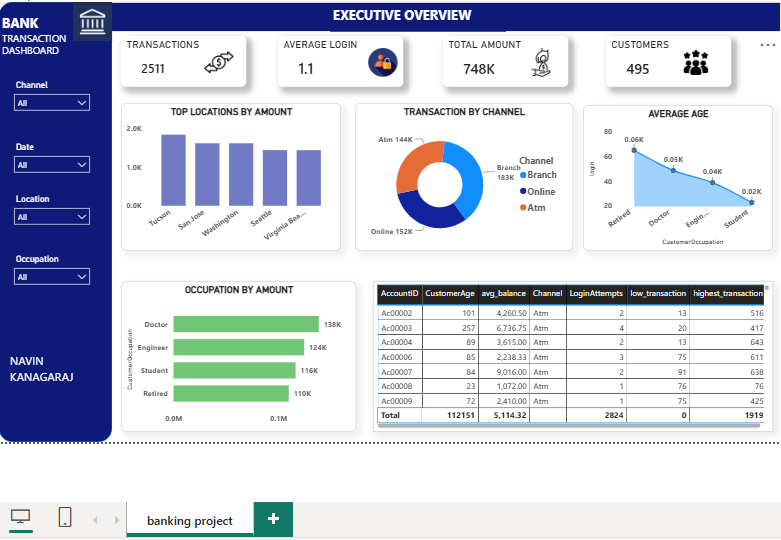

The dashboard page shown, as its layout file describes it:
{"tool":"powerbi","page":{"name":" banking project","canvas":[1280,720],"ordinal":0},"visuals":[{"type":"shape","box":[0,0,185,720.2],"z":0},{"type":"textbox","box":[0,14.7,124.4,96.6],"z":1000},{"type":"shape","box":[173.5,0,1106.5,49.1],"z":2000},{"type":"textbox","box":[541.8,1.6,288.1,47.5],"z":3000},{"type":"cardVisual","title":"AVERAGE LOGIN","fields":{"Data":["account.avg_login"]},"box":[456.7,55.7,204.6,83.5],"z":4000},{"type":"cardVisual","title":"TOTAL AMOUNT","fields":{"Data":["transaction_table.total_amount"]},"box":[726.8,55.7,204.6,83.5],"z":5000},{"type":"cardVisual","title":"TRANSACTIONS","fields":{"Data":["fact_table.total_transaction"]},"box":[199.7,55.7,204.6,83.5],"z":6000},{"type":"cardVisual","title":"CUSTOMERS","fields":{"Data":["account.unique_cusomters"]},"box":[993.6,55.7,204.6,83.5],"z":7000},{"type":"image","box":[584.3,75.3,88.4,47.5],"z":8000},{"type":"image","box":[843,75.3,88.4,47.5],"z":9000},{"type":"image","box":[1096.7,75.3,88.4,47.5],"z":10000},{"type":"image","box":[315.9,75.3,88.4,47.5],"z":11000},{"type":"clusteredColumnChart","title":"TOP LOCATIONS BY AMOUNT","fields":{"Category":["account.Location"],"Y":["transaction_table.highest_transaction"]},"box":[199.7,165.3,360.1,242.3],"z":12000},{"type":"donutChart","title":"TRANSACTION BY CHANNEL","fields":{"Category":["account.Channel"],"Y":["transaction_table.total_amount"]},"box":[582.7,165.3,356.8,242.3],"z":13000},{"type":"clusteredBarChart","title":"OCCUPATION BY AMOUNT","fields":{"Category":["account.CustomerOccupation"],"Y":["transaction_table.total_amount"]},"box":[199.7,456.7,384.7,247.2],"z":14000},{"type":"tableEx","fields":{"Values":["transaction_table.AccountID","Sum(account.CustomerAge)","account.avg_balance","account.Channel","Sum(account.LoginAttempts)","transaction_table.low","transaction_table.highest_transaction"]},"box":[612.2,456.7,654.7,247.2],"z":15000},{"type":"slicer","fields":{"Values":["account.Channel"]},"box":[14.7,122.8,144,62.2],"z":16000},{"type":"slicer","fields":{"Values":["account.Location"]},"box":[14.7,309.4,144,62.2],"z":17000},{"type":"slicer","fields":{"Values":["account.CustomerOccupation"]},"box":[14.7,407.6,144,62.2],"z":18000},{"type":"lineChart","title":"AVERAGE AGE","fields":{"Y":["account.average_age"],"Category":["account.CustomerOccupation"]},"box":[955.9,168.6,311,239],"z":19000},{"type":"image","box":[121.1,0,63.8,63.8],"z":20000},{"type":"textbox","box":[13.1,569.6,160.4,62.2],"z":21000},{"type":"slicer","fields":{"Values":["transaction_table.TransactionDate"]},"box":[14.7,224.2,144,62.2],"z":22000}]}

Visuals, with their boxes in screenshot pixels (x1, y1, x2, y2):
shape: crop(0, 0, 109, 449)
textbox: crop(0, 9, 72, 69)
shape: crop(102, 0, 780, 31)
textbox: crop(332, 1, 512, 31)
"AVERAGE LOGIN" cardVisual: crop(279, 35, 406, 87)
"TOTAL AMOUNT" cardVisual: crop(447, 35, 575, 87)
"TRANSACTIONS" cardVisual: crop(118, 35, 246, 87)
"CUSTOMERS" cardVisual: crop(614, 35, 741, 87)
image: crop(358, 47, 414, 77)
image: crop(520, 47, 575, 77)
image: crop(678, 47, 733, 77)
image: crop(191, 47, 246, 77)
"TOP LOCATIONS BY AMOUNT" clusteredColumnChart: crop(118, 103, 343, 254)
"TRANSACTION BY CHANNEL" donutChart: crop(357, 103, 580, 254)
"OCCUPATION BY AMOUNT" clusteredBarChart: crop(118, 285, 358, 439)
tableEx - transaction_table.AccountID x Sum(account.CustomerAge): crop(376, 285, 780, 439)
slicer - account.Channel: crop(3, 77, 93, 115)
slicer - account.Location: crop(3, 193, 93, 232)
slicer - account.CustomerOccupation: crop(3, 254, 93, 293)
"AVERAGE AGE" lineChart: crop(590, 105, 780, 254)
image: crop(69, 0, 109, 40)
textbox: crop(2, 355, 102, 394)
slicer - transaction_table.TransactionDate: crop(3, 140, 93, 179)
